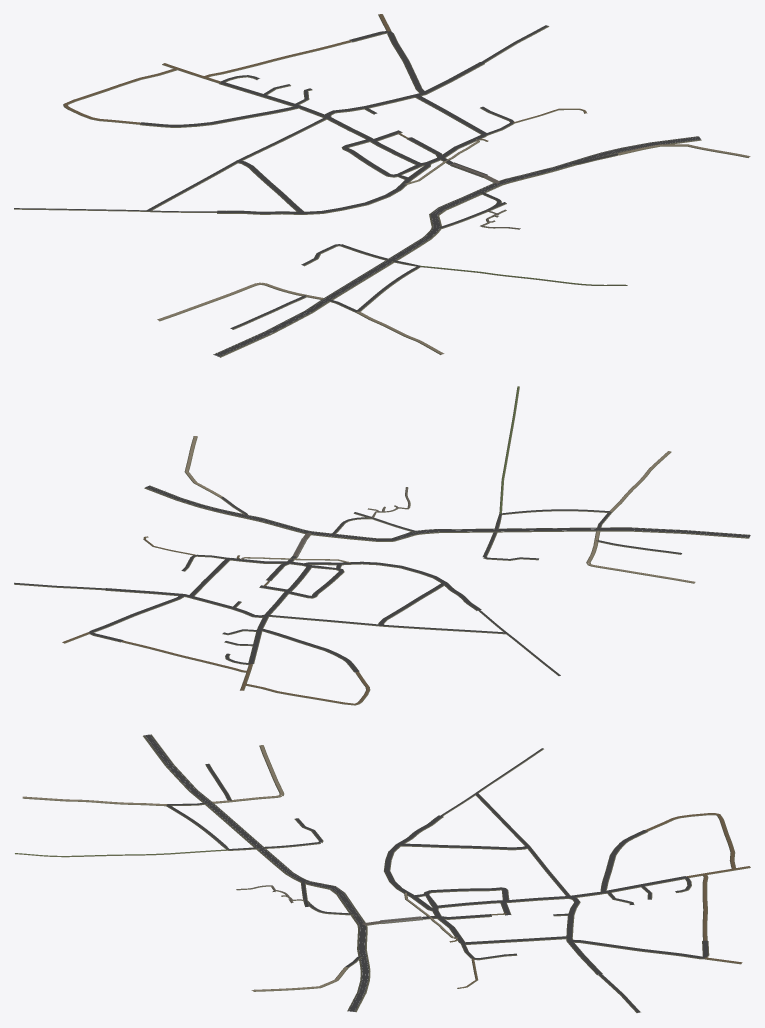
3 renders of one model, top to bottom at view 1: azimuth 30°, elevation 25°; view 2: azimuth 150°, elevation 25°; view 3: azimuth 270°, elevation 25°, orthographic. The views are drawn at different scales.
Parts seen in each view (by area): view 1: roads; view 2: roads; view 3: roads.
Boxes of the visible parts, x1,y1,x2,y2 form: roads: (14,14,750,357); roads: (14,386,750,705); roads: (15,734,750,1012).
Size of the model in its own units: 706 by 56.78 by 808.
